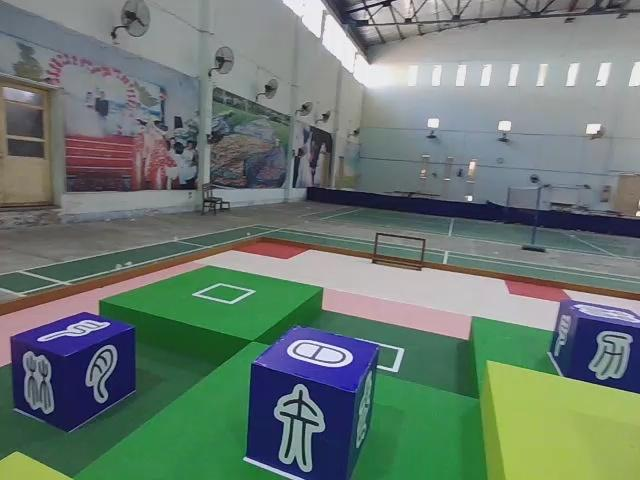R2 Fake Blue: (250, 327, 383, 480), (11, 314, 136, 435), (547, 299, 638, 396)
